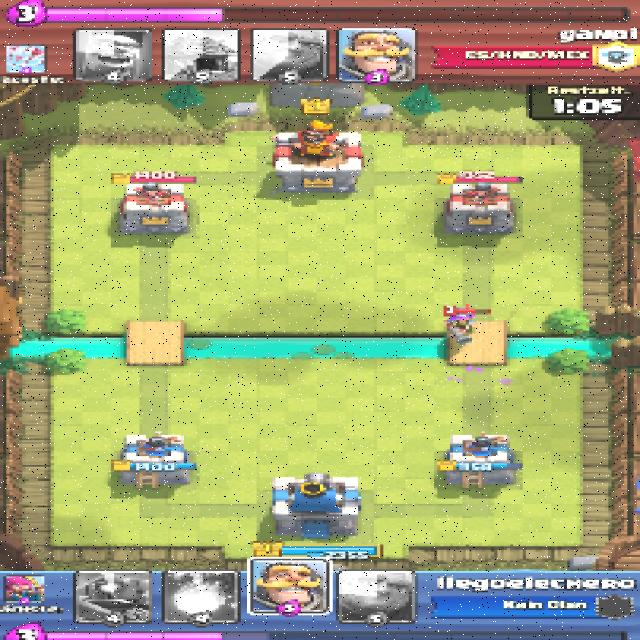Enemy-Musketeer: (444, 311, 479, 341)
